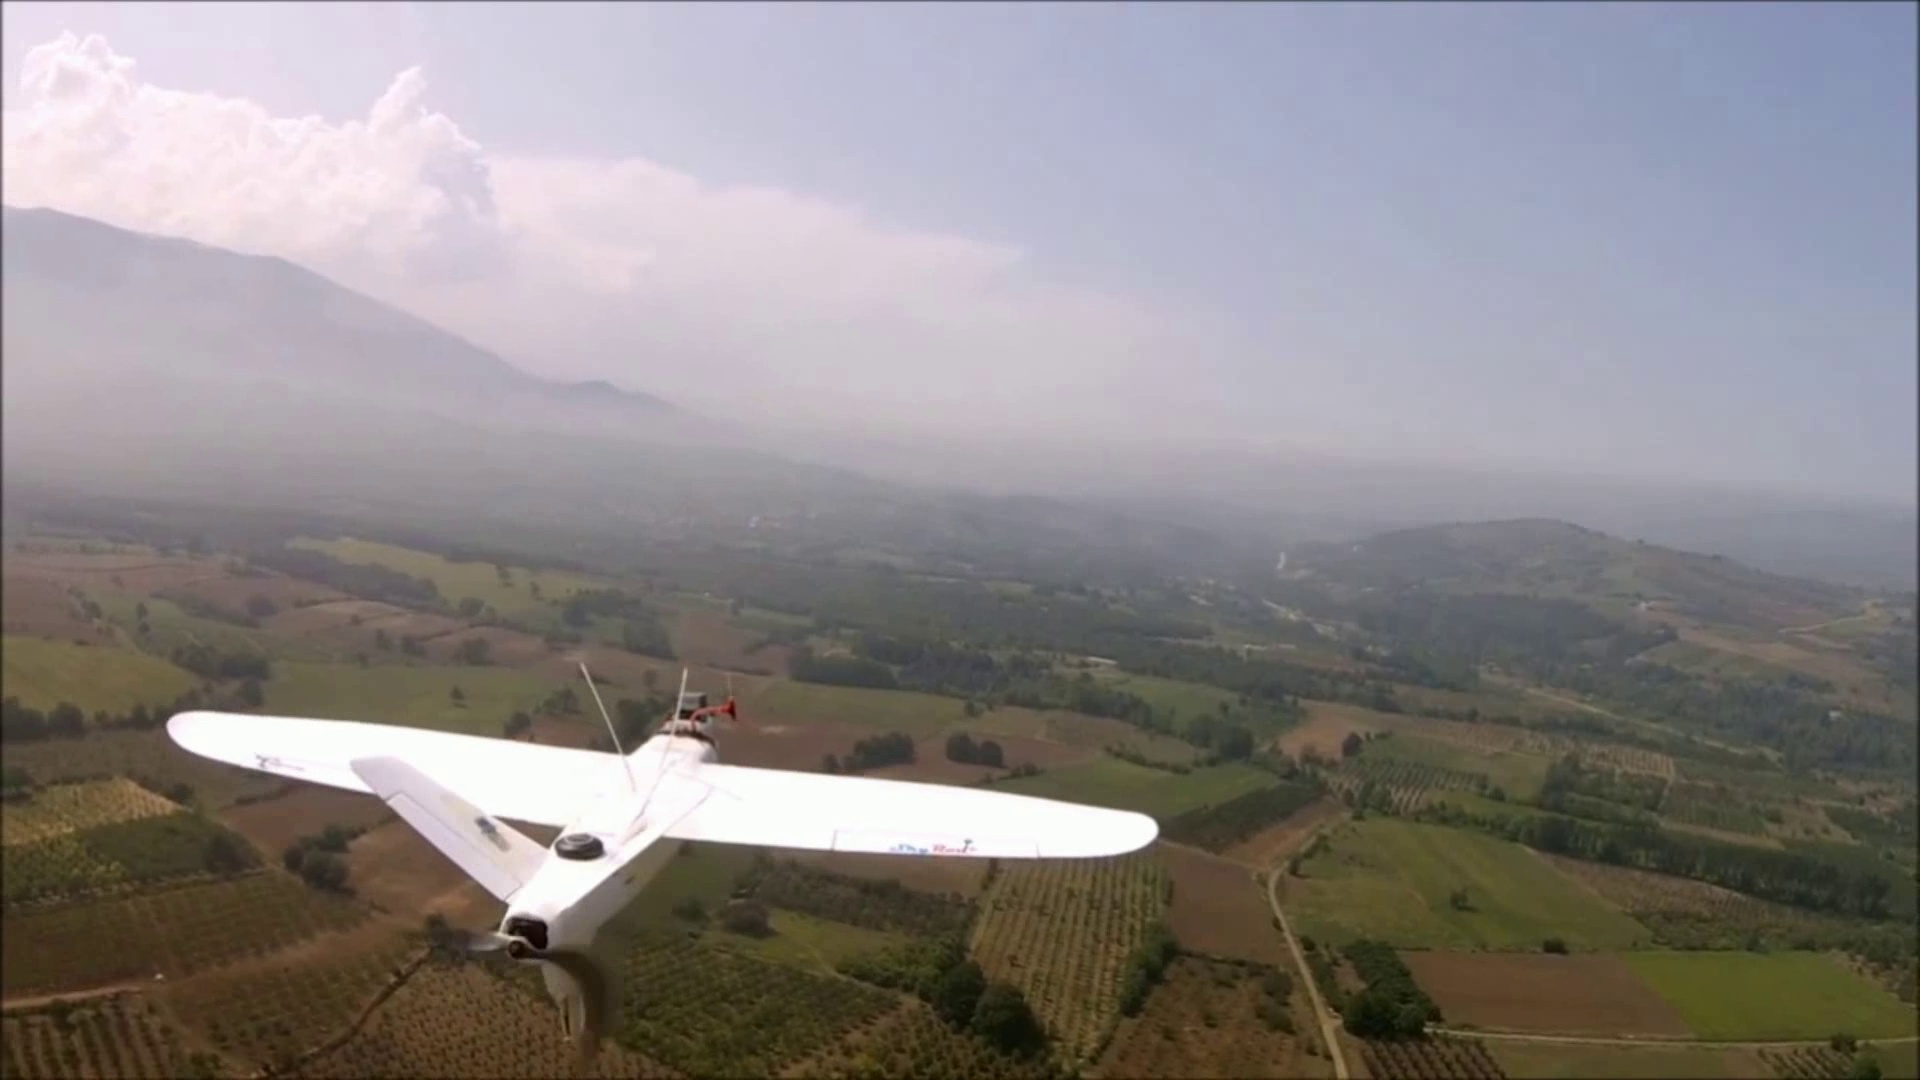airplane: (166, 694, 1162, 1044)
